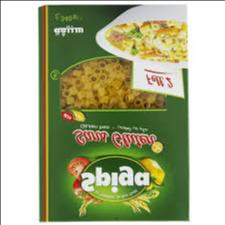Fell: (38, 4, 189, 221)
